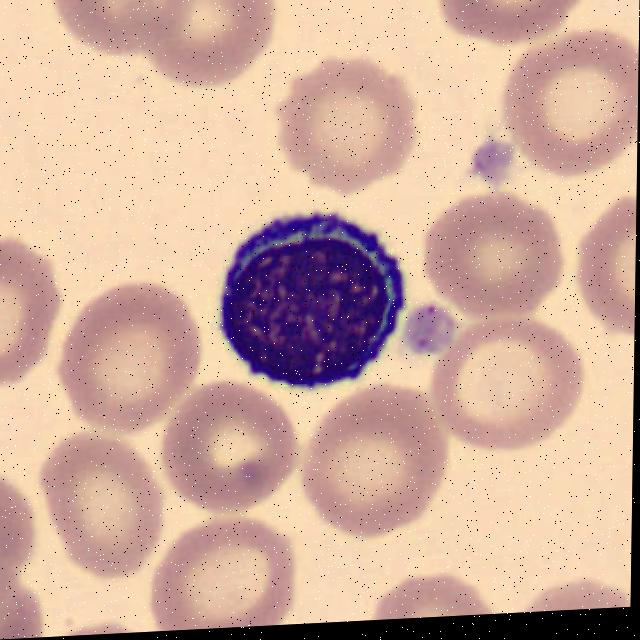lymphocyte: (223, 205, 411, 387)
platelets: (402, 300, 459, 353), (470, 140, 515, 186)
rbc: (305, 385, 454, 542), (505, 27, 639, 196), (44, 423, 168, 580), (67, 285, 201, 429), (439, 316, 585, 446), (158, 381, 301, 509), (284, 57, 415, 192), (424, 195, 565, 318), (154, 519, 287, 632), (141, 0, 278, 93), (0, 233, 60, 391), (41, 0, 205, 56), (582, 192, 637, 335), (350, 568, 494, 621), (442, 0, 585, 50), (0, 474, 39, 576), (523, 578, 631, 612), (53, 606, 150, 637)
